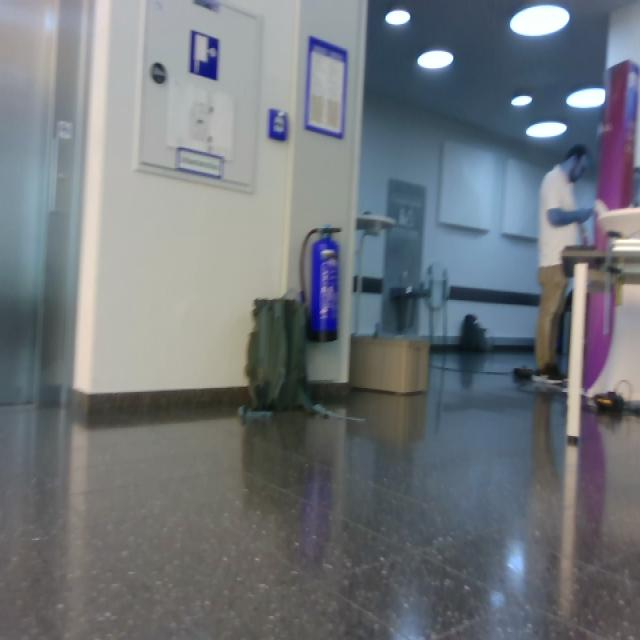backpack: (246, 298, 316, 412)
carton: (350, 337, 428, 394)
door: (1, 1, 88, 405)
fire extinguisher: (302, 228, 341, 342)
light bulb: (511, 5, 570, 37), (567, 88, 605, 109), (417, 50, 454, 70), (418, 50, 454, 70), (527, 122, 567, 140), (529, 122, 565, 137), (386, 10, 411, 25), (512, 96, 532, 106), (512, 96, 531, 105)
person: (536, 146, 593, 373)
table: (567, 202, 640, 444)
tiled floor: (1, 357, 640, 640)
